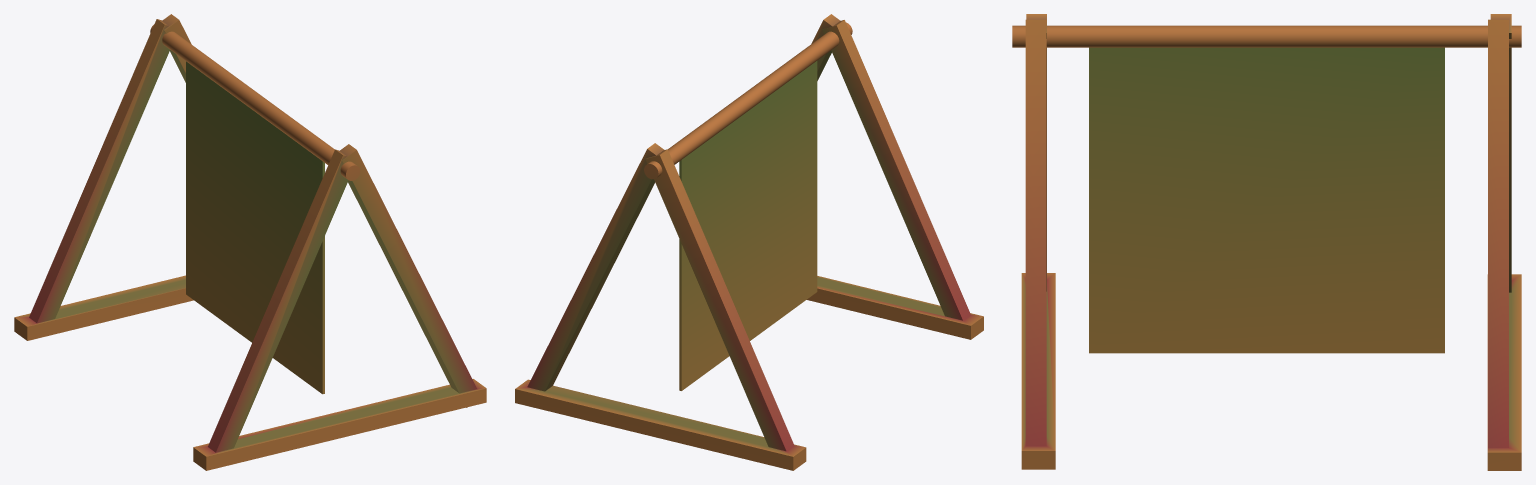
3 views of the same model, side by side, from view 1: azimuth 30°, elevation 25°; view 2: azimuth 150°, elevation 25°; view 3: azimuth 270°, elevation 25° (orthographic). The views are drawn at different scales.
Parts seen in each view (by area): view 1: sheet, foot, foot.001, rail; view 2: sheet, foot.001, foot, rail; view 3: sheet, foot.001, foot, rail.
Part boxes in pixels (<box>): sheet: <box>186,61,324,394</box>; foot: <box>193,144,486,470</box>; foot.001: <box>14,14,193,340</box>; rail: <box>150,24,360,180</box>; sheet: <box>679,61,817,390</box>; foot.001: <box>515,143,806,470</box>; foot: <box>807,14,983,339</box>; rail: <box>644,22,852,179</box>; sheet: <box>1089,47,1444,353</box>; foot.001: <box>1487,14,1521,470</box>; foot: <box>1021,14,1055,469</box>; rail: <box>1012,25,1521,47</box>.
Size of the model in its own units: 0.828 by 0.8043 by 1.
